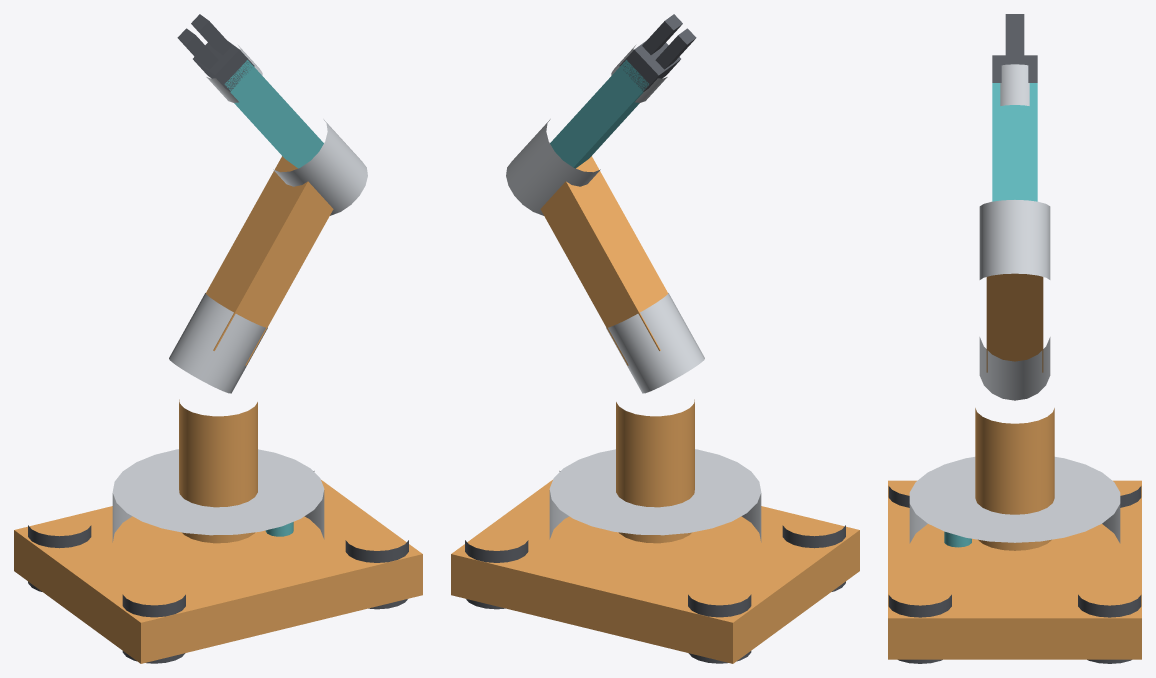
Rendered from RoboticArm.glb.
3 views of the same model, side by side, from view 1: azimuth 30°, elevation 25°; view 2: azimuth 150°, elevation 25°; view 3: azimuth 270°, elevation 25° (orthographic).
Parts seen in each view (by area): view 1: base, turret, arm_upper, column, joint_shoulder, arm_fore, joint_elbow, palm, foot_fl, foot_fr, foot_bl, finger_left (+1 smaller); view 2: base, turret, arm_upper, column, joint_shoulder, arm_fore, joint_elbow, palm, foot_bl, foot_br, foot_fl, finger_left (+1 smaller); view 3: base, turret, column, joint_elbow, arm_upper, arm_fore, joint_shoulder, wrist, foot_fr, foot_br, finger_right, palm.
Boxes of the visible parts, x1,y1,x2,y2 form: base: (14, 480, 422, 663); turret: (112, 449, 324, 542); arm_upper: (206, 156, 333, 365); column: (179, 399, 257, 543); joint_shoulder: (169, 293, 267, 393); arm_fore: (224, 60, 323, 168); joint_elbow: (273, 119, 367, 215); palm: (193, 41, 254, 91); foot_fl: (122, 594, 185, 663); foot_fr: (345, 540, 408, 609); foot_bl: (28, 525, 91, 591); finger_left: (177, 28, 218, 69); base: (451, 480, 859, 663); turret: (549, 449, 761, 542); arm_upper: (540, 156, 667, 365); column: (616, 399, 694, 543); joint_shoulder: (606, 293, 704, 393); arm_fore: (550, 60, 648, 168); joint_elbow: (506, 119, 600, 215); palm: (619, 41, 680, 91); foot_bl: (688, 594, 751, 663); foot_br: (465, 540, 528, 609); foot_fl: (782, 525, 845, 591); finger_left: (655, 28, 696, 69); base: (888, 480, 1141, 659); turret: (909, 457, 1120, 543); column: (975, 408, 1054, 550); joint_elbow: (979, 200, 1050, 279); arm_upper: (986, 273, 1043, 372); arm_fore: (992, 83, 1037, 201); joint_shoulder: (979, 337, 1050, 400); wrist: (1000, 64, 1029, 105); foot_fr: (888, 594, 951, 663); foot_br: (1078, 594, 1141, 663); finger_right: (1005, 14, 1024, 55); palm: (992, 55, 1037, 82).
Size of the model in its own units: 1.74 by 3.35 by 1.34.
